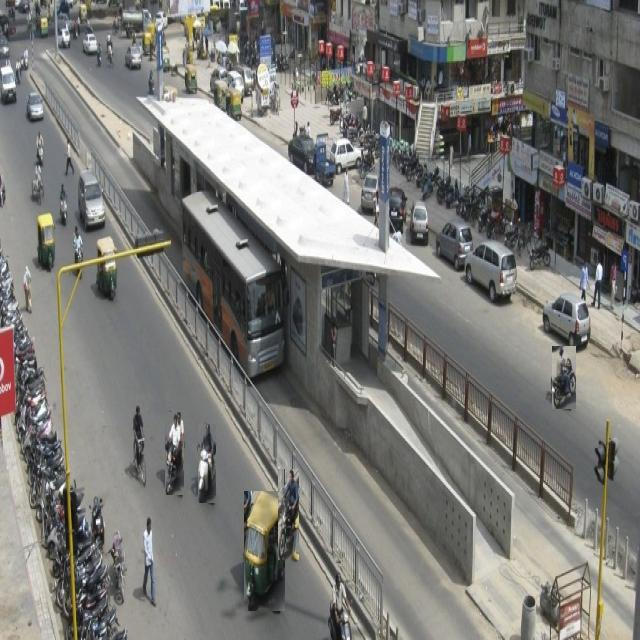autorickshaw: (244, 492, 285, 611), (38, 213, 55, 270)
bus: (181, 191, 285, 377)
car: (465, 242, 518, 299), (542, 293, 590, 350), (435, 219, 472, 270)
motorcycle: (278, 470, 299, 560), (165, 413, 184, 495), (552, 347, 575, 409), (198, 424, 216, 503)
